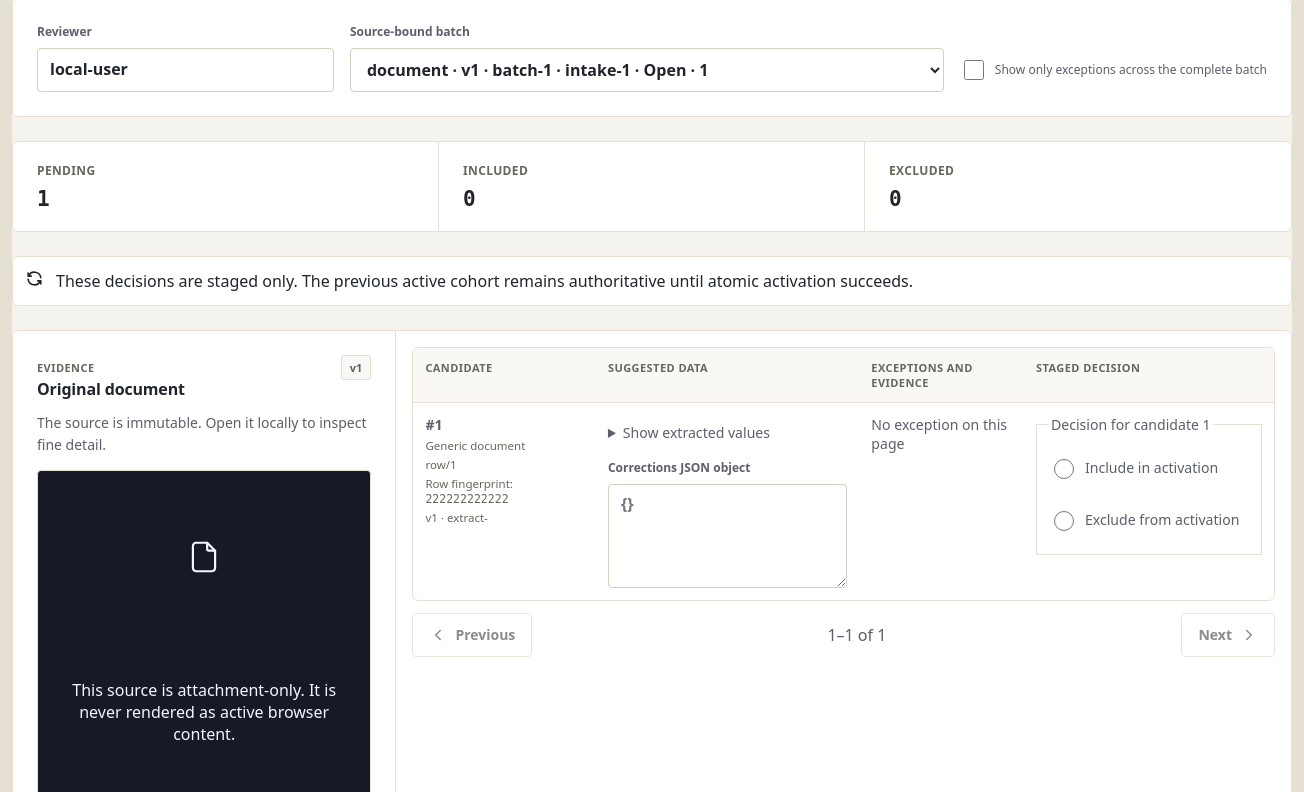
Test: GroupedReviewWorkspace › preserves a batch refresh failure while the candidate page refreshes
Step 1. Click the radio button labelled "Include in activation" → (1064, 469), box [1054, 459, 1074, 479]
(page scrolled)
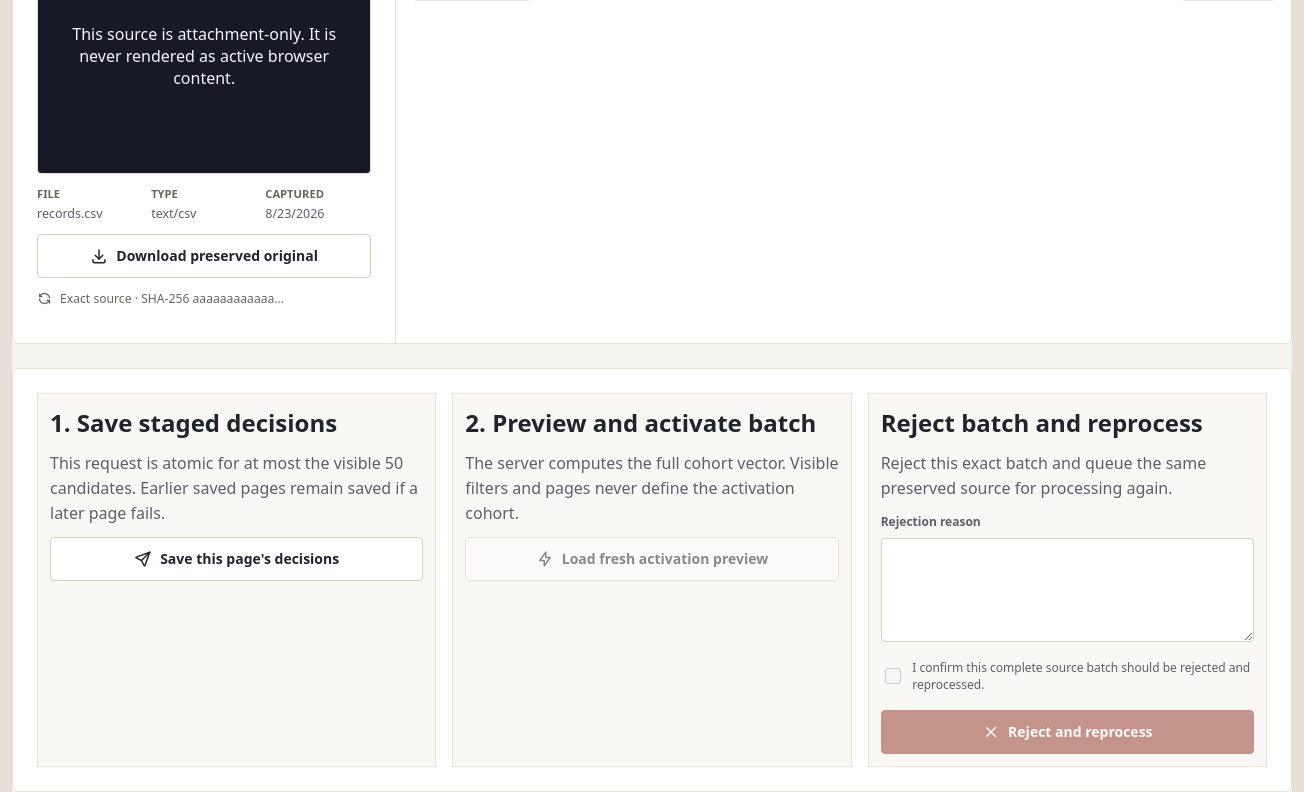
Step 2. Click the button "Save this page's decisions" → (237, 559), box [50, 537, 423, 581]
(page scrolled)
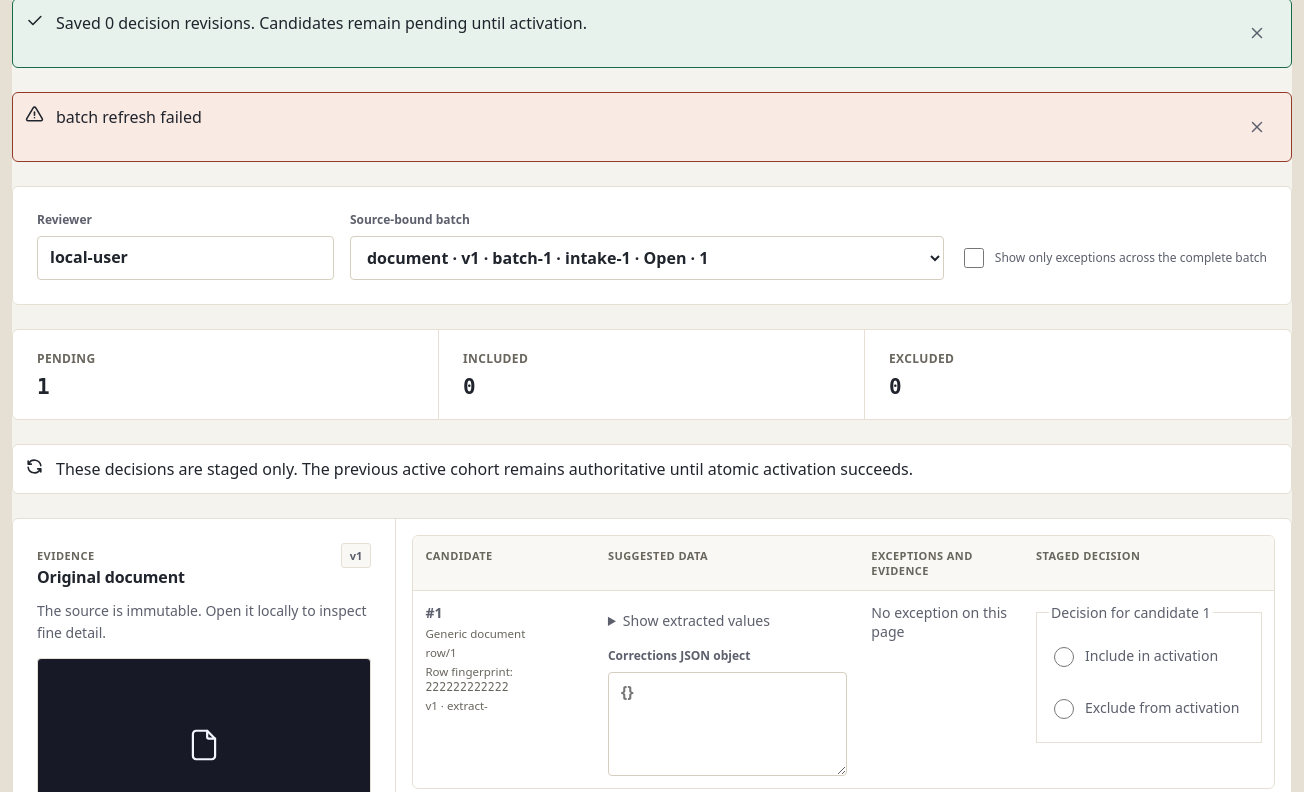
Expected: the text "batch refresh failed" is shown, [56, 105, 202, 129]
